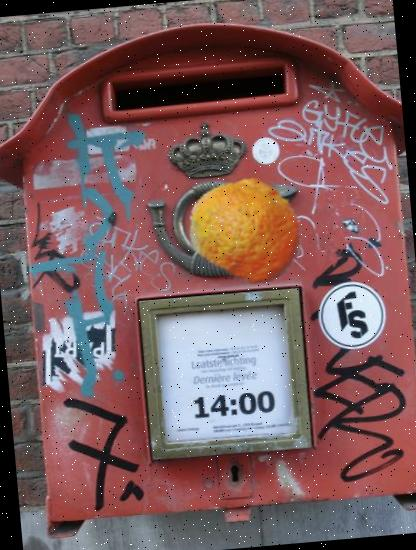Mandarine: (184, 166, 310, 292)
